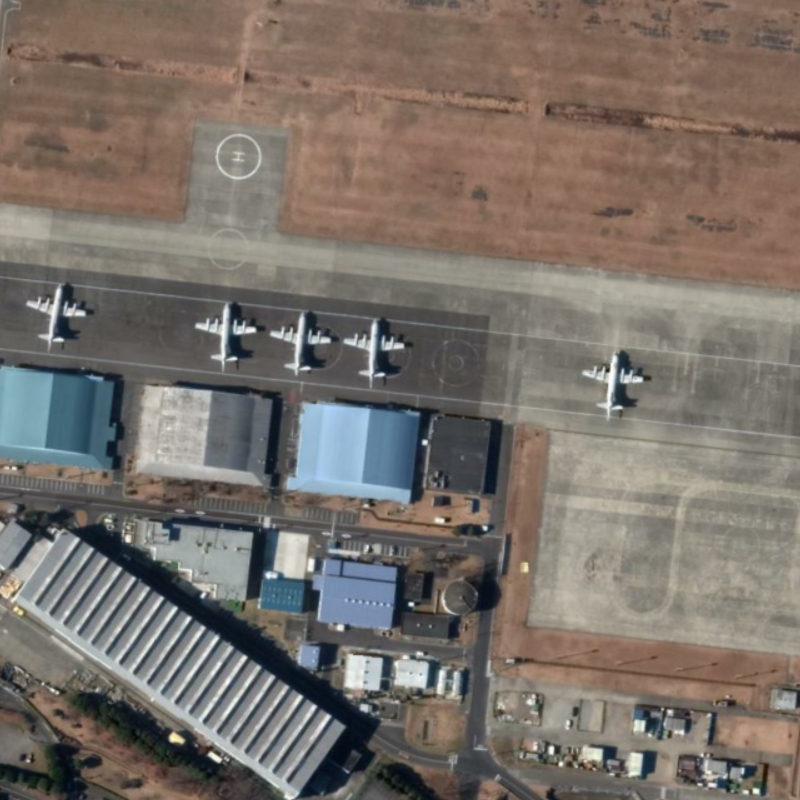A9: (187, 294, 265, 373), (22, 274, 93, 359), (343, 312, 415, 392), (577, 346, 655, 419), (267, 302, 340, 378)
